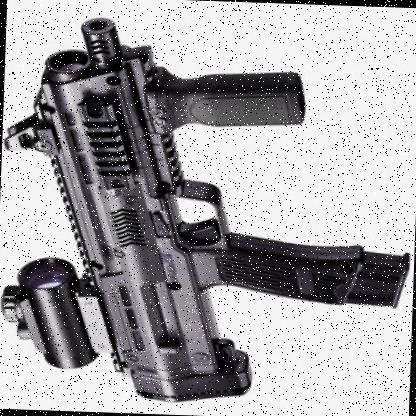rifle: (6, 19, 400, 414)
